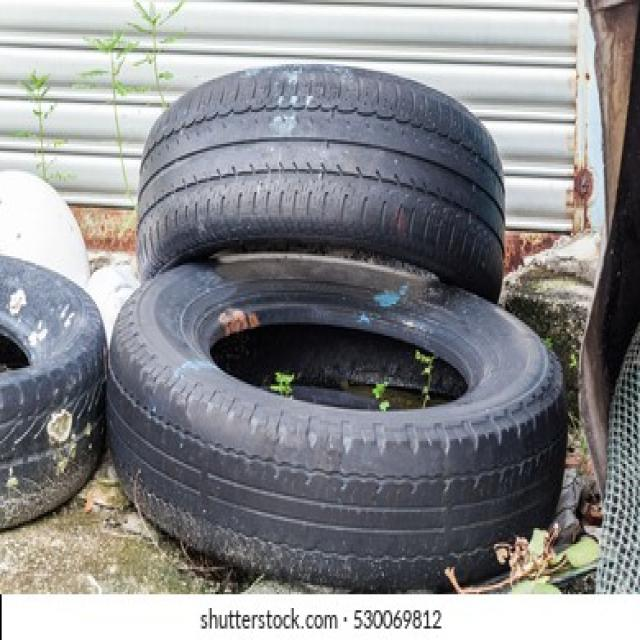tire: (105, 251, 568, 590), (134, 59, 506, 302), (0, 249, 107, 530)
